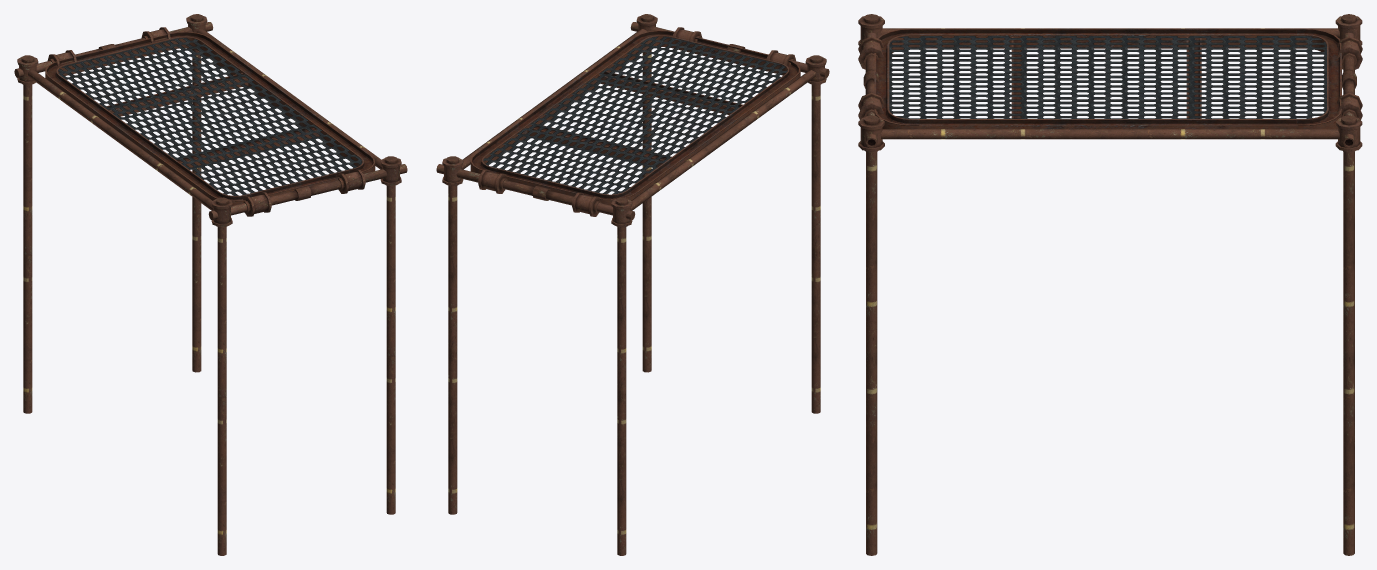
File: scaffold_walkway_extension.dae
The picture shows the model from 3 angles, left to right: view 1: azimuth 30°, elevation 25°; view 2: azimuth 150°, elevation 25°; view 3: azimuth 270°, elevation 25°; orthographic projection. The views are drawn at different scales.
Parts seen in each view (by area): view 1: polySurface126, pPlane1, polySurface129; view 2: polySurface126, pPlane1, polySurface129; view 3: pPlane1, polySurface126, polySurface129.
Boxes of the visible parts, bbox=[...] form: polySurface126: bbox=[14, 14, 407, 555]; pPlane1: bbox=[58, 38, 362, 195]; polySurface129: bbox=[45, 31, 375, 205]; polySurface126: bbox=[436, 14, 829, 555]; pPlane1: bbox=[483, 36, 787, 194]; polySurface129: bbox=[470, 30, 800, 205]; pPlane1: bbox=[889, 36, 1326, 118]; polySurface126: bbox=[858, 14, 1362, 555]; polySurface129: bbox=[874, 28, 1341, 129].
Size of the model in its own units: 2.3 by 4 by 4.21.
